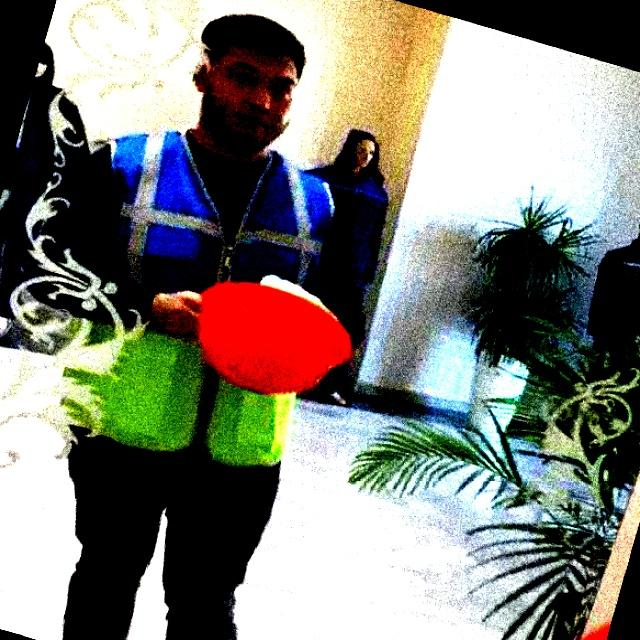helmet: (189, 274, 358, 394)
safety_vest: (87, 117, 348, 485)
